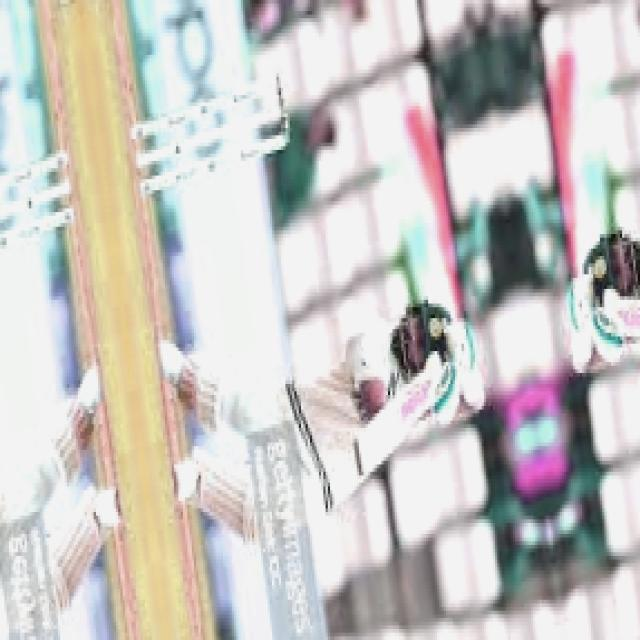toe: (352, 436, 378, 478)
